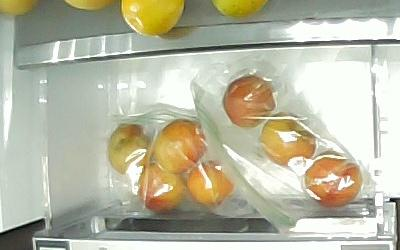prune_vinyl: (303, 149, 363, 206), (258, 110, 316, 166), (152, 117, 207, 172), (222, 73, 276, 127), (136, 161, 189, 212), (105, 121, 152, 175), (185, 158, 235, 206)
